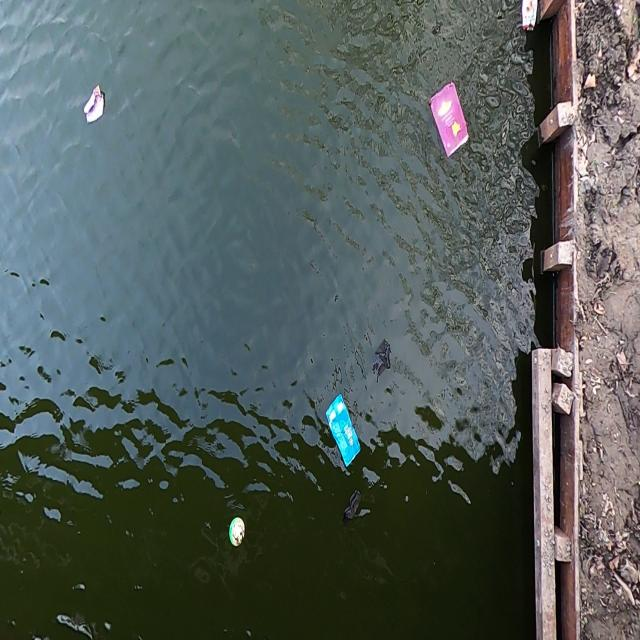Autre plastique: (422, 76, 472, 162), (325, 392, 367, 474), (221, 512, 251, 557)
